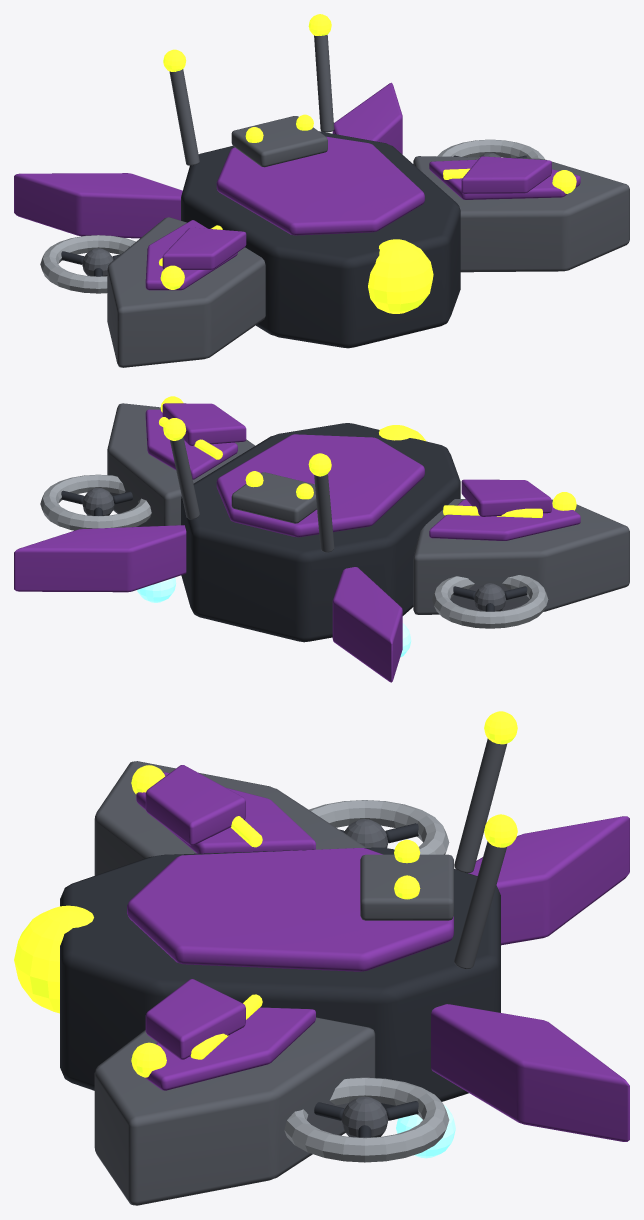
File: aegis_drone_l04.glb
3 renders of one model, top to bottom at view 1: azimuth 30°, elevation 25°; view 2: azimuth 150°, elevation 25°; view 3: azimuth 270°, elevation 25°, orthographic. The views are drawn at different scales.
Visible parts, largest first — view 1: carbon_hull, left_swept_wing, right_swept_wing, upper_violet_armour, left_rear_fin, interceptor_eye, dorsal_signal_plate, right_armour_chevron, right_rear_fin, left_armour_chevron, left_duct, right_violet_wing_panel (+5 smaller); view 2: carbon_hull, left_swept_wing, upper_violet_armour, right_rear_fin, right_swept_wing, left_rear_fin, left_duct, left_violet_wing_panel, right_duct, dorsal_signal_plate, left_armour_chevron, right_armour_chevron (+10 smaller); view 3: carbon_hull, right_swept_wing, upper_violet_armour, right_rear_fin, left_rear_fin, left_swept_wing, right_duct, right_violet_wing_panel, dorsal_signal_plate, left_armour_chevron, right_armour_chevron, interceptor_eye (+11 smaller).
Boxes of the visible parts, bbox=[...] form: carbon_hull: bbox=[181, 131, 460, 348]; left_swept_wing: bbox=[107, 217, 265, 367]; right_swept_wing: bbox=[413, 156, 629, 272]; upper_violet_armour: bbox=[216, 136, 424, 235]; left_rear_fin: bbox=[14, 173, 182, 238]; interceptor_eye: bbox=[368, 239, 433, 313]; dorsal_signal_plate: bbox=[231, 116, 327, 167]; right_armour_chevron: bbox=[461, 156, 551, 193]; right_rear_fin: bbox=[332, 82, 402, 154]; left_armour_chevron: bbox=[162, 227, 246, 269]; left_duct: bbox=[40, 235, 136, 293]; right_violet_wing_panel: bbox=[429, 159, 580, 199]; carbon_hull: bbox=[181, 423, 460, 642]; left_swept_wing: bbox=[413, 499, 629, 614]; upper_violet_armour: bbox=[216, 434, 424, 537]; right_rear_fin: bbox=[14, 525, 186, 592]; right_swept_wing: bbox=[107, 403, 254, 526]; left_rear_fin: bbox=[332, 567, 402, 682]; left_duct: bbox=[432, 575, 548, 628]; left_violet_wing_panel: bbox=[429, 499, 580, 540]; right_duct: bbox=[40, 474, 151, 530]; dorsal_signal_plate: bbox=[231, 472, 316, 523]; left_armour_chevron: bbox=[461, 479, 551, 516]; right_armour_chevron: bbox=[162, 403, 246, 445]; carbon_hull: bbox=[60, 847, 500, 1108]; right_swept_wing: bbox=[94, 1017, 375, 1205]; upper_violet_armour: bbox=[127, 848, 453, 971]; right_rear_fin: bbox=[431, 1004, 629, 1141]; left_rear_fin: bbox=[468, 816, 629, 945]; left_swept_wing: bbox=[94, 761, 366, 875]; right_duct: bbox=[284, 1077, 449, 1162]; right_violet_wing_panel: bbox=[144, 1007, 315, 1090]; dorsal_signal_plate: bbox=[360, 854, 453, 920]; left_armour_chevron: bbox=[145, 765, 245, 845]; right_armour_chevron: bbox=[145, 979, 245, 1059]; interceptor_eye: bbox=[14, 905, 93, 1013].
Bounding box in the file's own units: 0.9128 × 0.362 × 0.6565.
